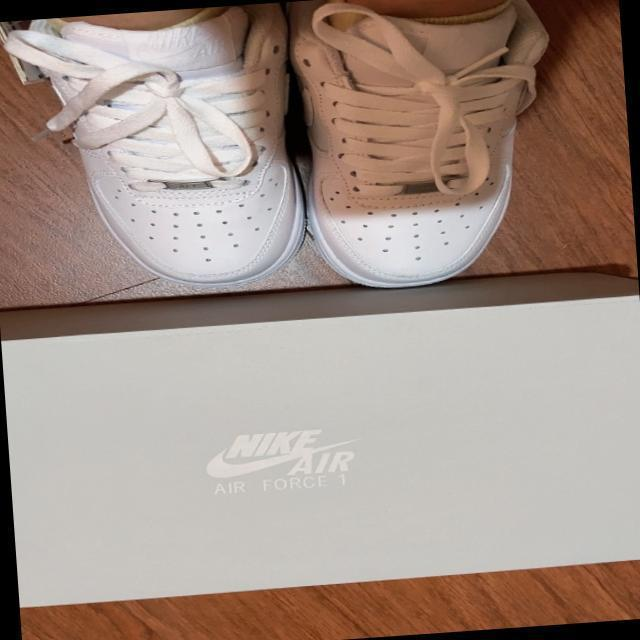nike original air force: (35, 1, 324, 296), (284, 0, 567, 301)
